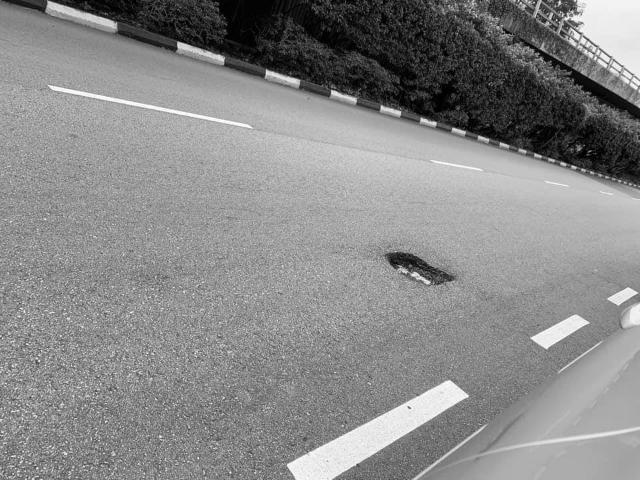Pothole: (383, 250, 457, 288)
